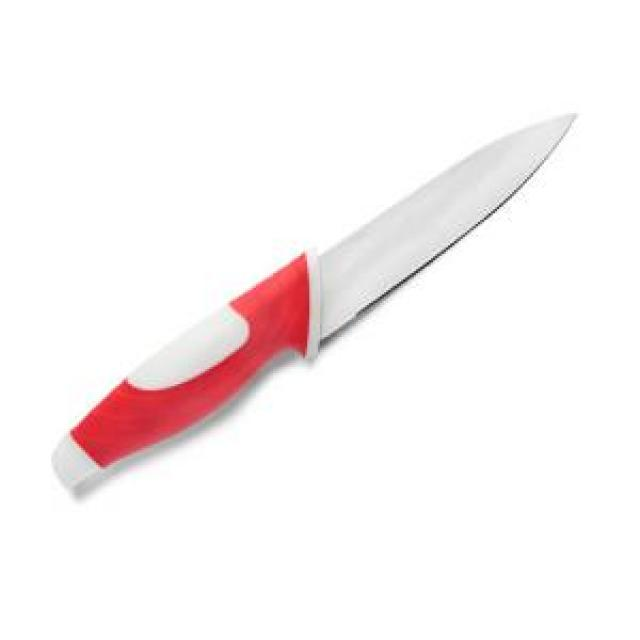knife: (51, 111, 578, 502)
